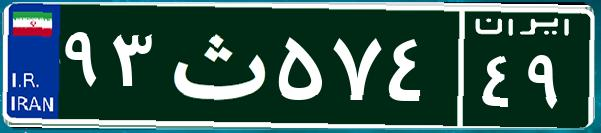3: (110, 28, 158, 105)
4: (385, 28, 445, 110), (475, 38, 525, 113)
5: (273, 28, 330, 110)
7: (330, 28, 385, 110)
9: (57, 26, 110, 107), (525, 38, 570, 115)
ث: (158, 15, 273, 115)
